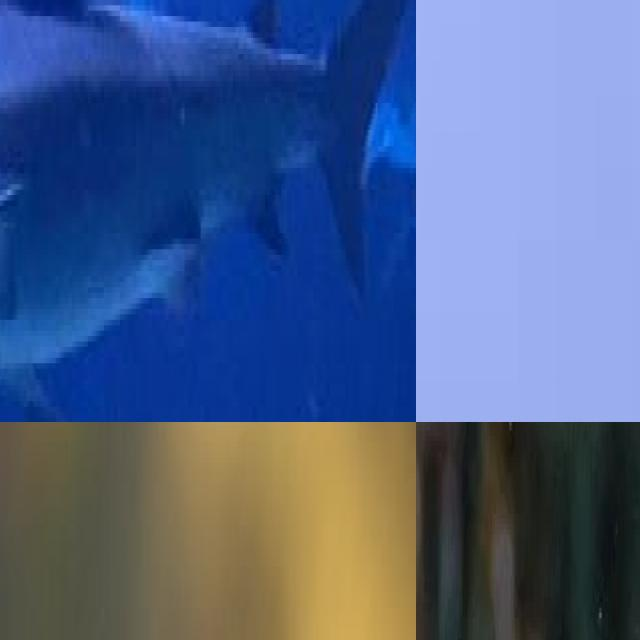fish: (0, 0, 416, 422)
